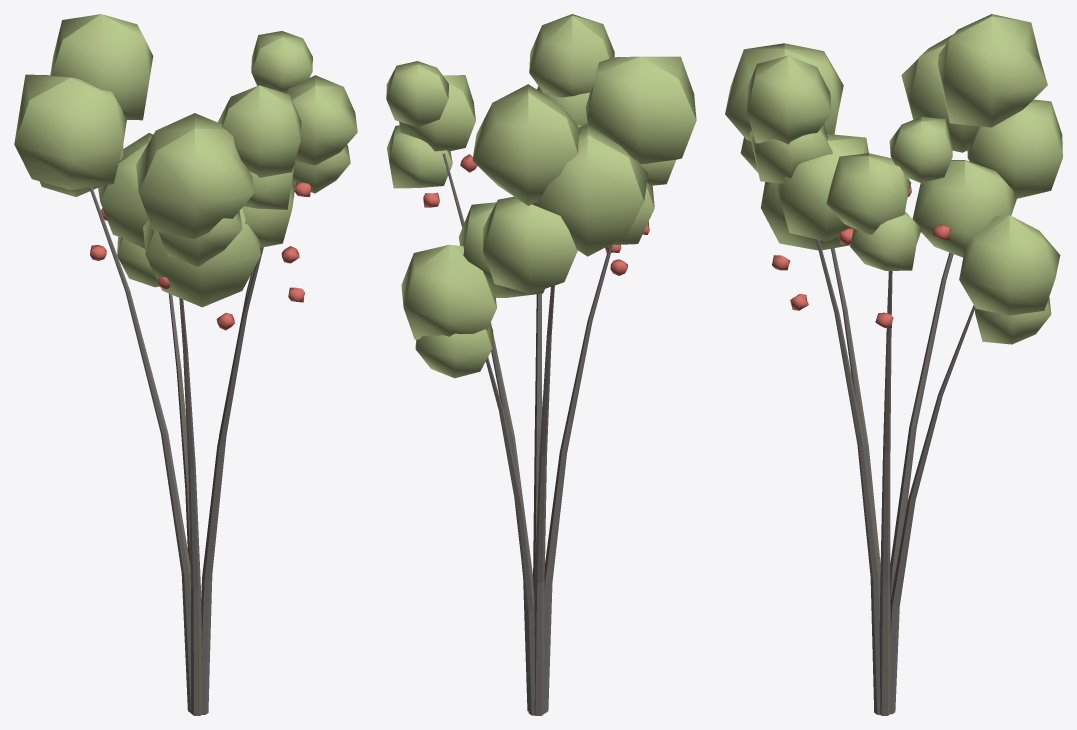
Rendered from dense-temperate-forest-flora-rowan-mature-a7ea84f6__28327.glb.
The picture shows the model from 3 angles, left to right: view 1: azimuth 30°, elevation 25°; view 2: azimuth 150°, elevation 25°; view 3: azimuth 270°, elevation 25°; orthographic projection.
Visible parts, largest first — view 1: rowan-mature; view 2: rowan-mature; view 3: rowan-mature.
Part boxes in pixels (bbox=[...]): rowan-mature: bbox=[14, 14, 357, 715]; rowan-mature: bbox=[386, 14, 696, 715]; rowan-mature: bbox=[725, 14, 1062, 715].
Bounding box in the file's own units: 3.85 × 8.33 × 3.79.
